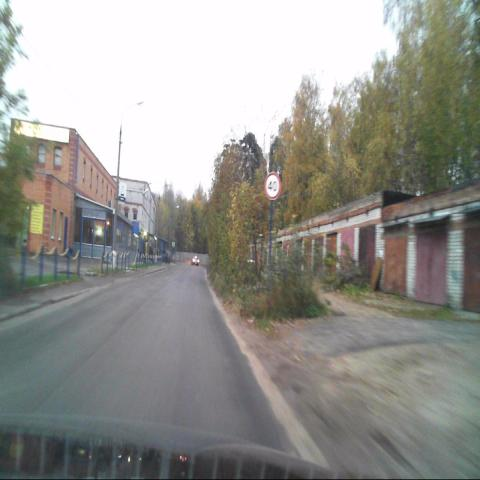3_24: (264, 171, 280, 201)
